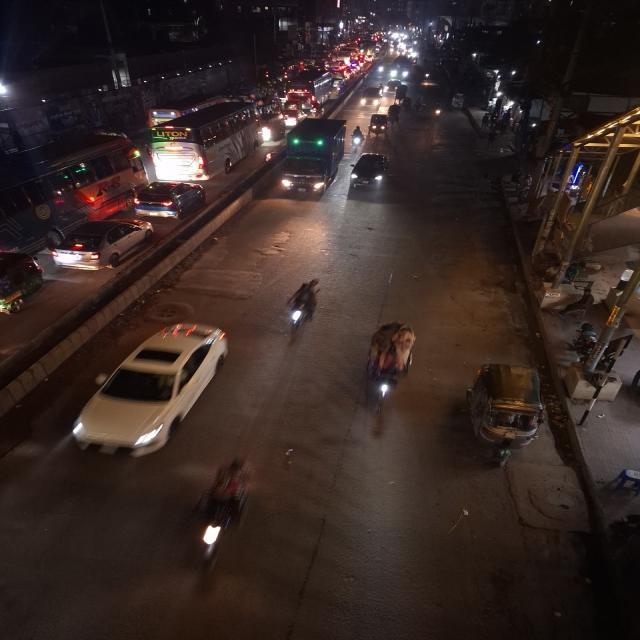bus: (0, 133, 145, 249), (147, 100, 261, 182), (280, 116, 348, 198), (288, 69, 331, 99), (391, 60, 411, 80)
car: (69, 320, 240, 460), (48, 216, 153, 273), (278, 117, 346, 196), (132, 179, 208, 219), (348, 150, 392, 190), (358, 84, 386, 107), (382, 79, 408, 99)
cng: (465, 360, 553, 472), (0, 250, 45, 318), (366, 112, 391, 138)
motorcycle: (278, 273, 326, 341), (350, 125, 366, 151), (429, 101, 446, 122)
rickshaw: (360, 318, 421, 421), (367, 112, 391, 138), (448, 90, 468, 112), (386, 103, 404, 125)
